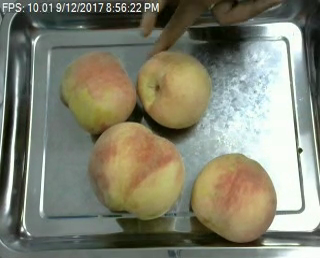Peach: (88, 122, 181, 218), (191, 152, 278, 243), (60, 50, 137, 133), (134, 50, 209, 128)
